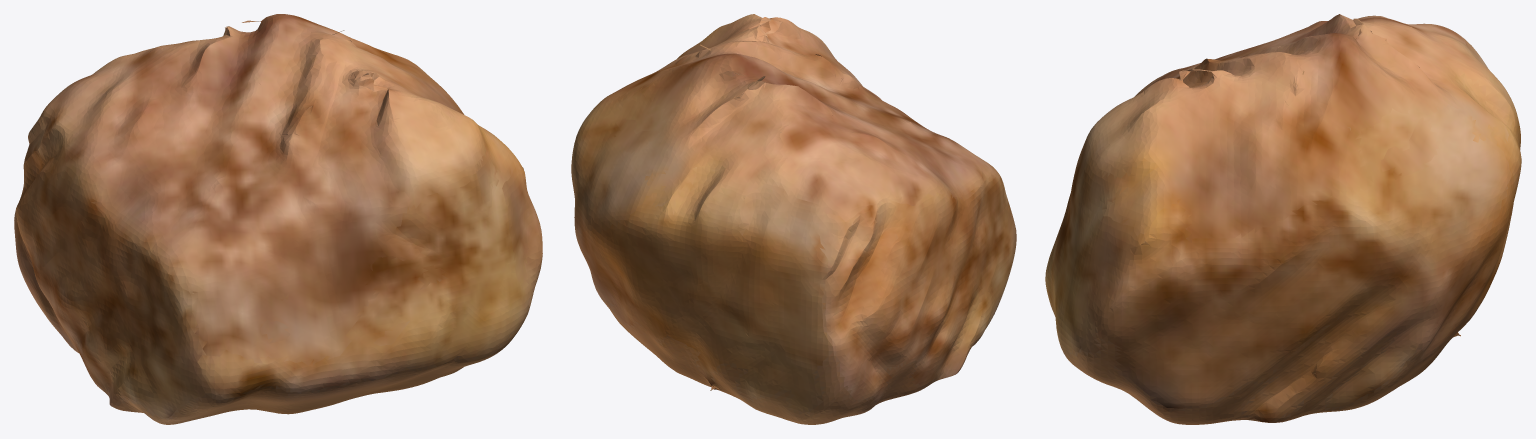
The model's file is model_New Qlone.obj.
The picture shows the model from 3 angles, left to right: view 1: azimuth 30°, elevation 25°; view 2: azimuth 150°, elevation 25°; view 3: azimuth 270°, elevation 25°; orthographic projection. The views are drawn at different scales.
Size of the model in its own units: 38.55 by 30.56 by 39.34.
1 material, 1 textured.
